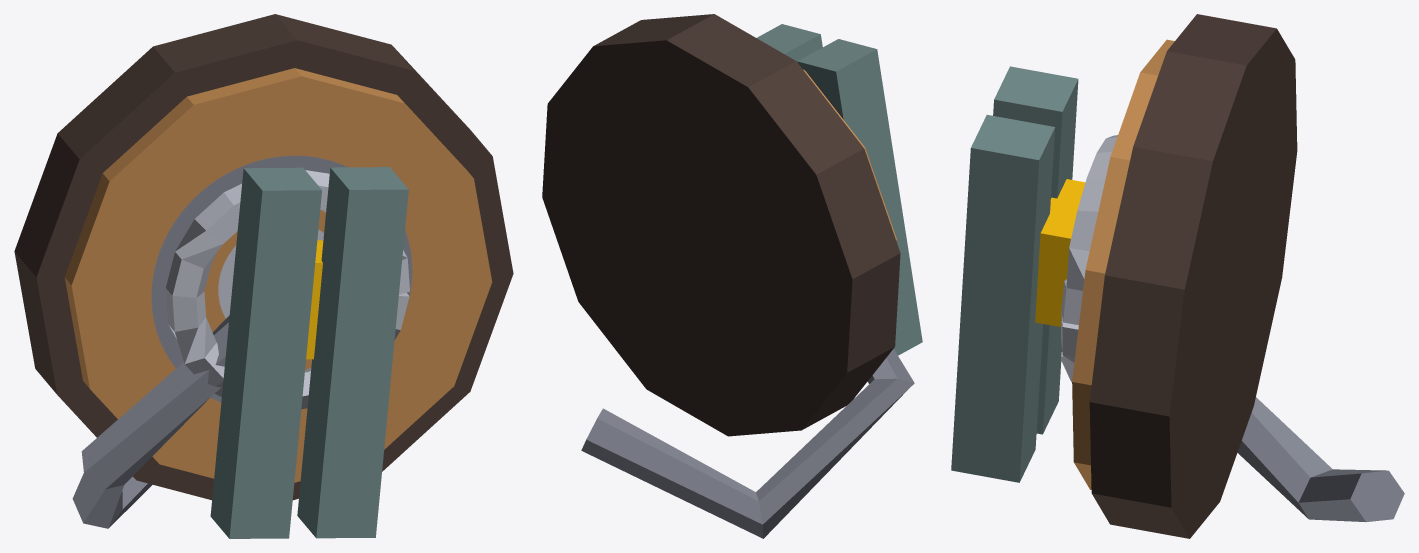
Rendered from fast_reel_3.glb.
3 renders of one model, left to right at view 1: azimuth 30°, elevation 25°; view 2: azimuth 150°, elevation 25°; view 3: azimuth 270°, elevation 25°, orthographic. The views are drawn at different scales.
Visible parts, largest first — view 1: wear_fast_reel_3_00_display, wear_fast_reel_3_01_display, wear_fast_reel_3_02_display; view 2: wear_fast_reel_3_00_display, wear_fast_reel_3_01_display, wear_fast_reel_3_02_display; view 3: wear_fast_reel_3_00_display, wear_fast_reel_3_02_display, wear_fast_reel_3_01_display.
Part boxes in pixels (x1,y1,x2,y2): wear_fast_reel_3_00_display: [14, 14, 513, 528]; wear_fast_reel_3_01_display: [210, 167, 321, 538]; wear_fast_reel_3_02_display: [297, 167, 408, 538]; wear_fast_reel_3_00_display: [542, 14, 914, 538]; wear_fast_reel_3_01_display: [797, 39, 922, 355]; wear_fast_reel_3_02_display: [757, 24, 822, 62]; wear_fast_reel_3_00_display: [1035, 14, 1404, 538]; wear_fast_reel_3_02_display: [951, 114, 1055, 482]; wear_fast_reel_3_01_display: [993, 66, 1078, 434].
Bounding box in the file's own units: 0.44 × 0.4957 × 0.3848.
Materials: 7 (1 with a texture image).
